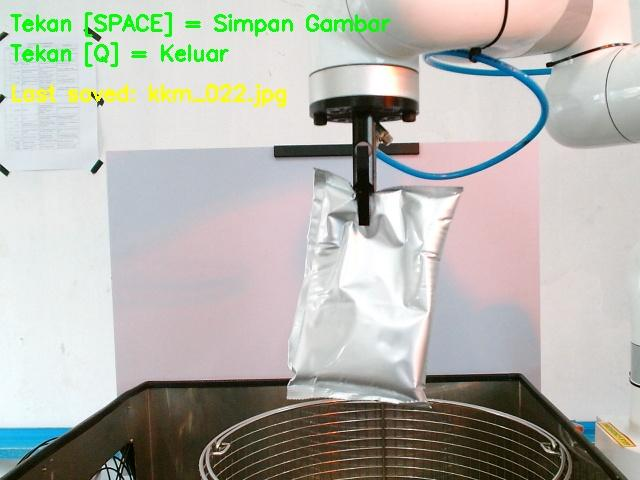retort-pouch: (282, 169, 459, 405)
